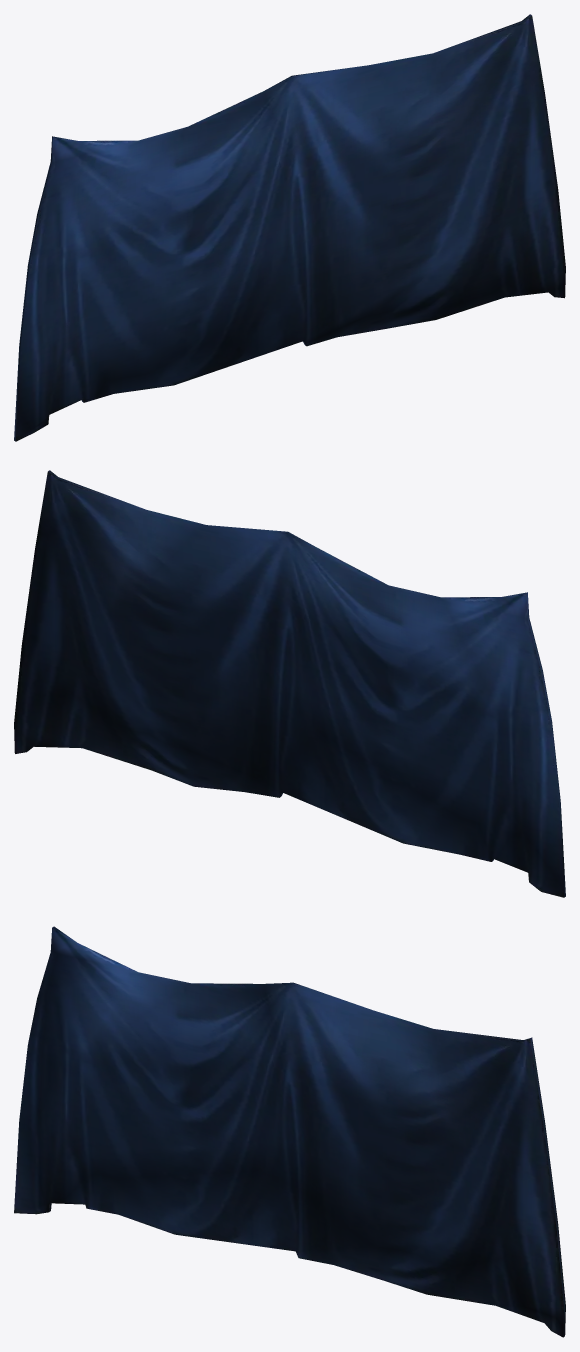
File: GS_VOB_LITTLECURTAIN_03.glb
The picture shows the model from 3 angles, top to bottom: view 1: azimuth 30°, elevation 25°; view 2: azimuth 150°, elevation 25°; view 3: azimuth 330°, elevation 25°; orthographic projection.
Parts seen in each view (by area): view 1: Mesh; view 2: Mesh; view 3: Mesh.
Part boxes in pixels (left/top/right/bottom): Mesh: left=14, top=14, right=565, bottom=441; Mesh: left=14, top=470, right=565, bottom=897; Mesh: left=14, top=926, right=565, bottom=1337.
Size of the model in its own units: 1.5 by 0.7817 by 0.0421.
Materials: 1 (1 with a texture image).
